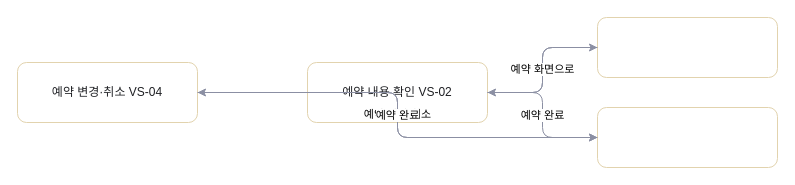
This 795x185 diagram has some shape labels left out. Each missing label, with the box of its shape:
방문 실측 예약 VS-01: (596, 16, 778, 78)
예약 완료 VS-03: (596, 106, 778, 168)
